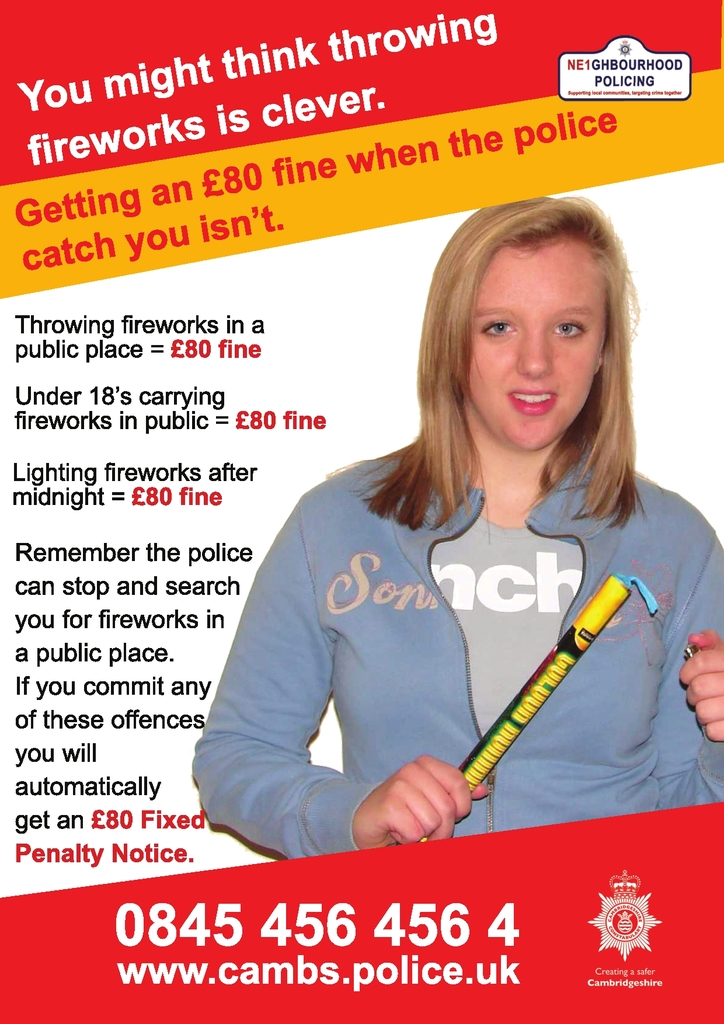Human_hand: (371, 762, 490, 833), (678, 627, 723, 744)
